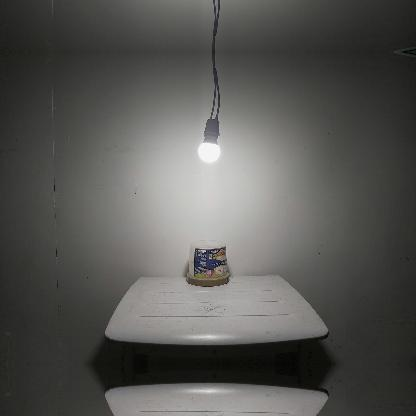Lady-s-Choice: (187, 240, 229, 286)
